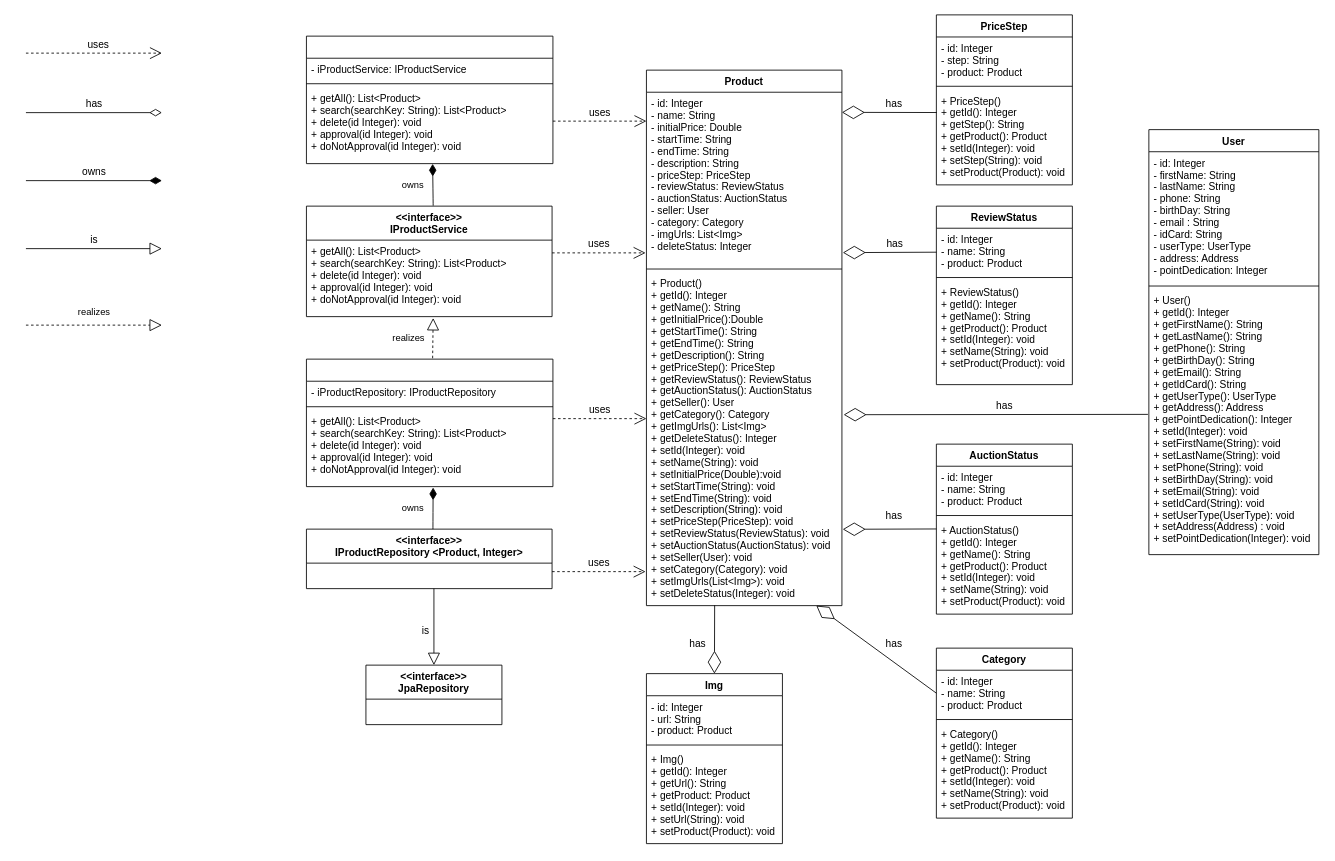
This 1335x861 diagram has some shape labels left out. The box of each missing label's shape, as (x1, y1, x2, y2) in pixels:
ProductController: (306, 35, 553, 164)
ProductServiceImpl: (306, 358, 553, 487)
